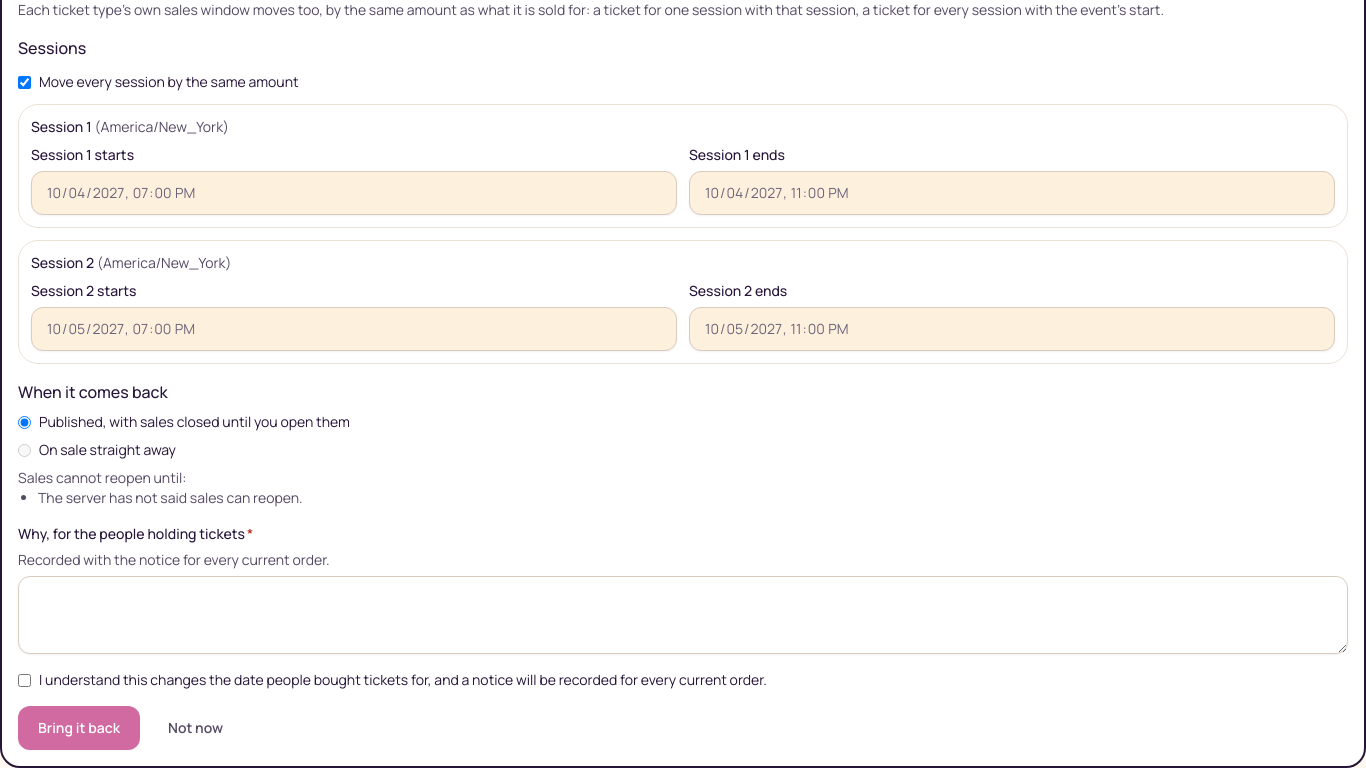
Scenario: bringing a postponed event back › asks for a fresh second factor in place, beside the form rather than inside it
The image size is (1366, 768).
(page scrolled)
Type "Monsoon." into the text box labelled "Why, for the people holding tickets*".
click(683, 615); type("Monsoon.")  # box [18,576,1348,654]
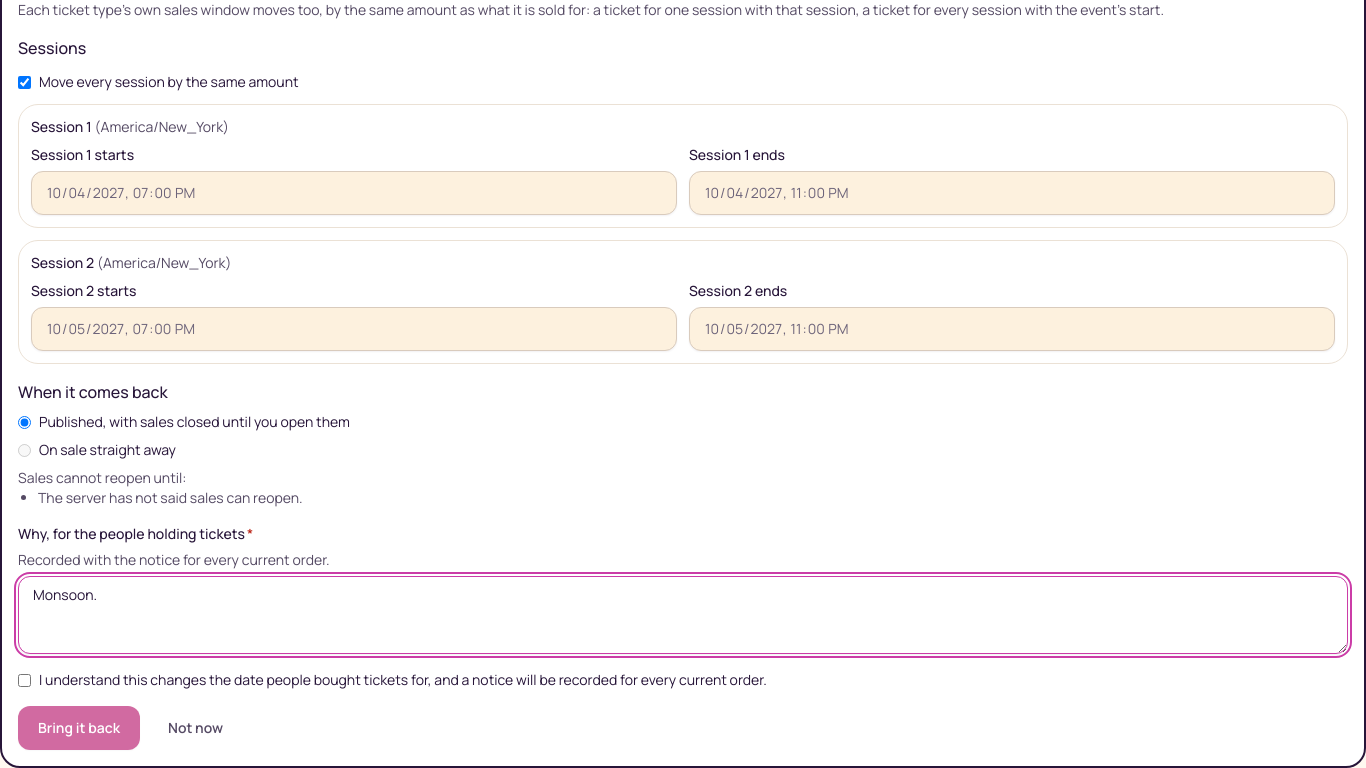
Click the checkbox labelled "I understand this changes the date".
click(24, 680)  # box [18,674,31,687]
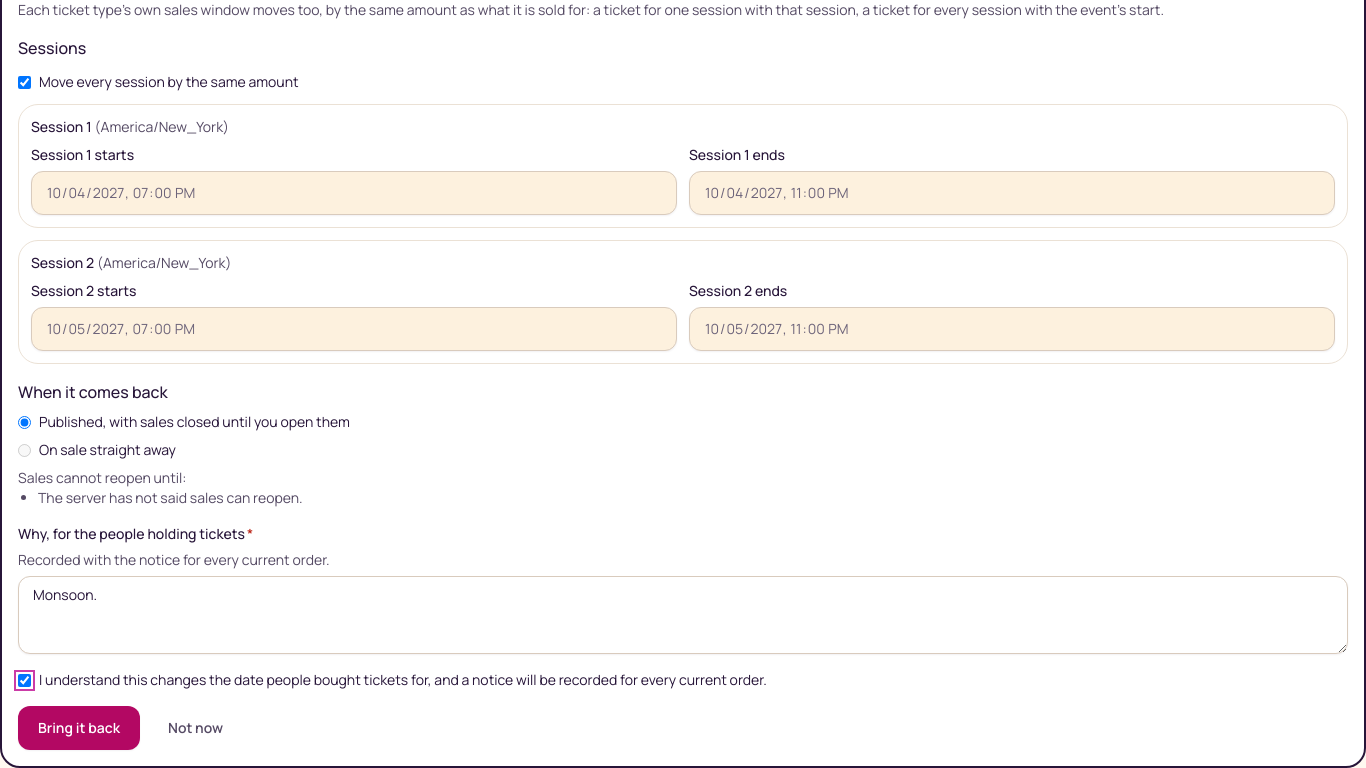
Click the button "Bring it back".
click(79, 728)  # box [18,706,140,750]
(page scrolled)
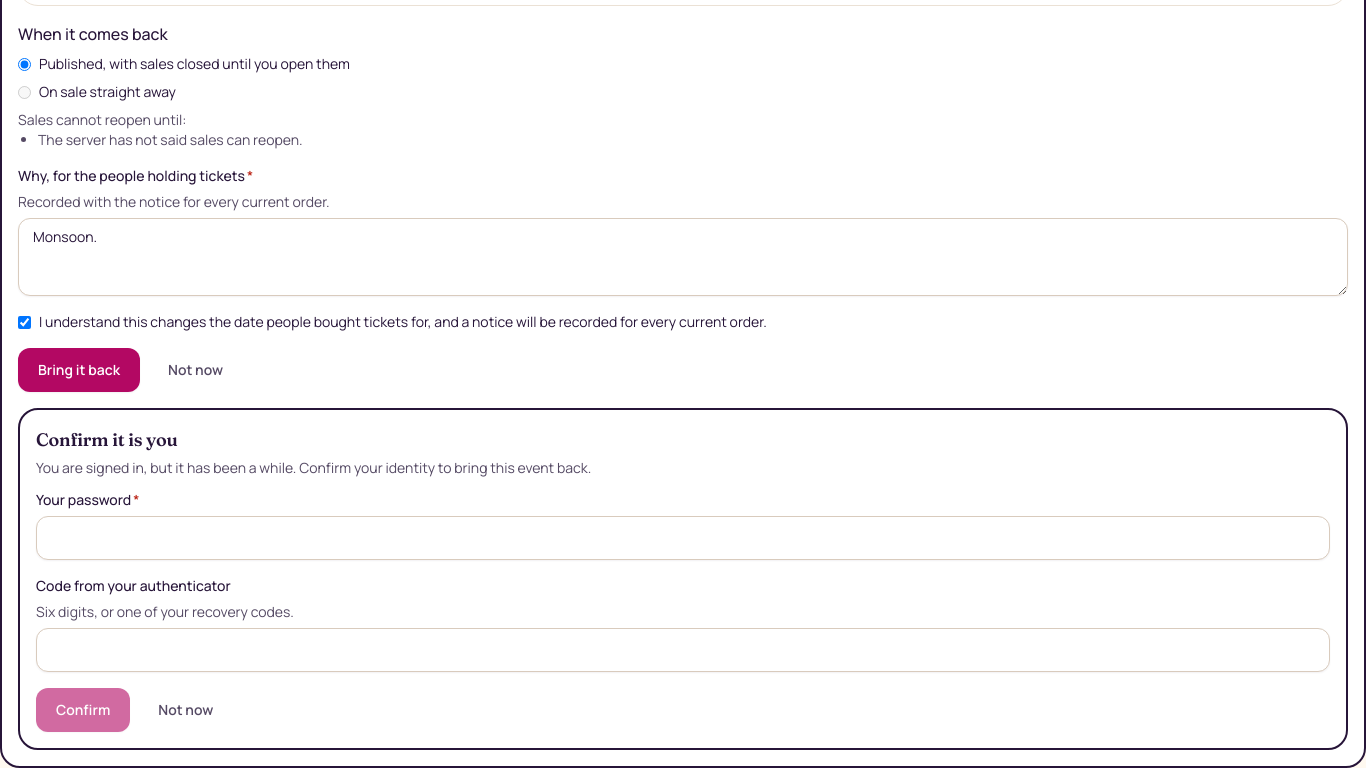
Check: the heading "Confirm it is you" is shown, box [36,428,178,451]
